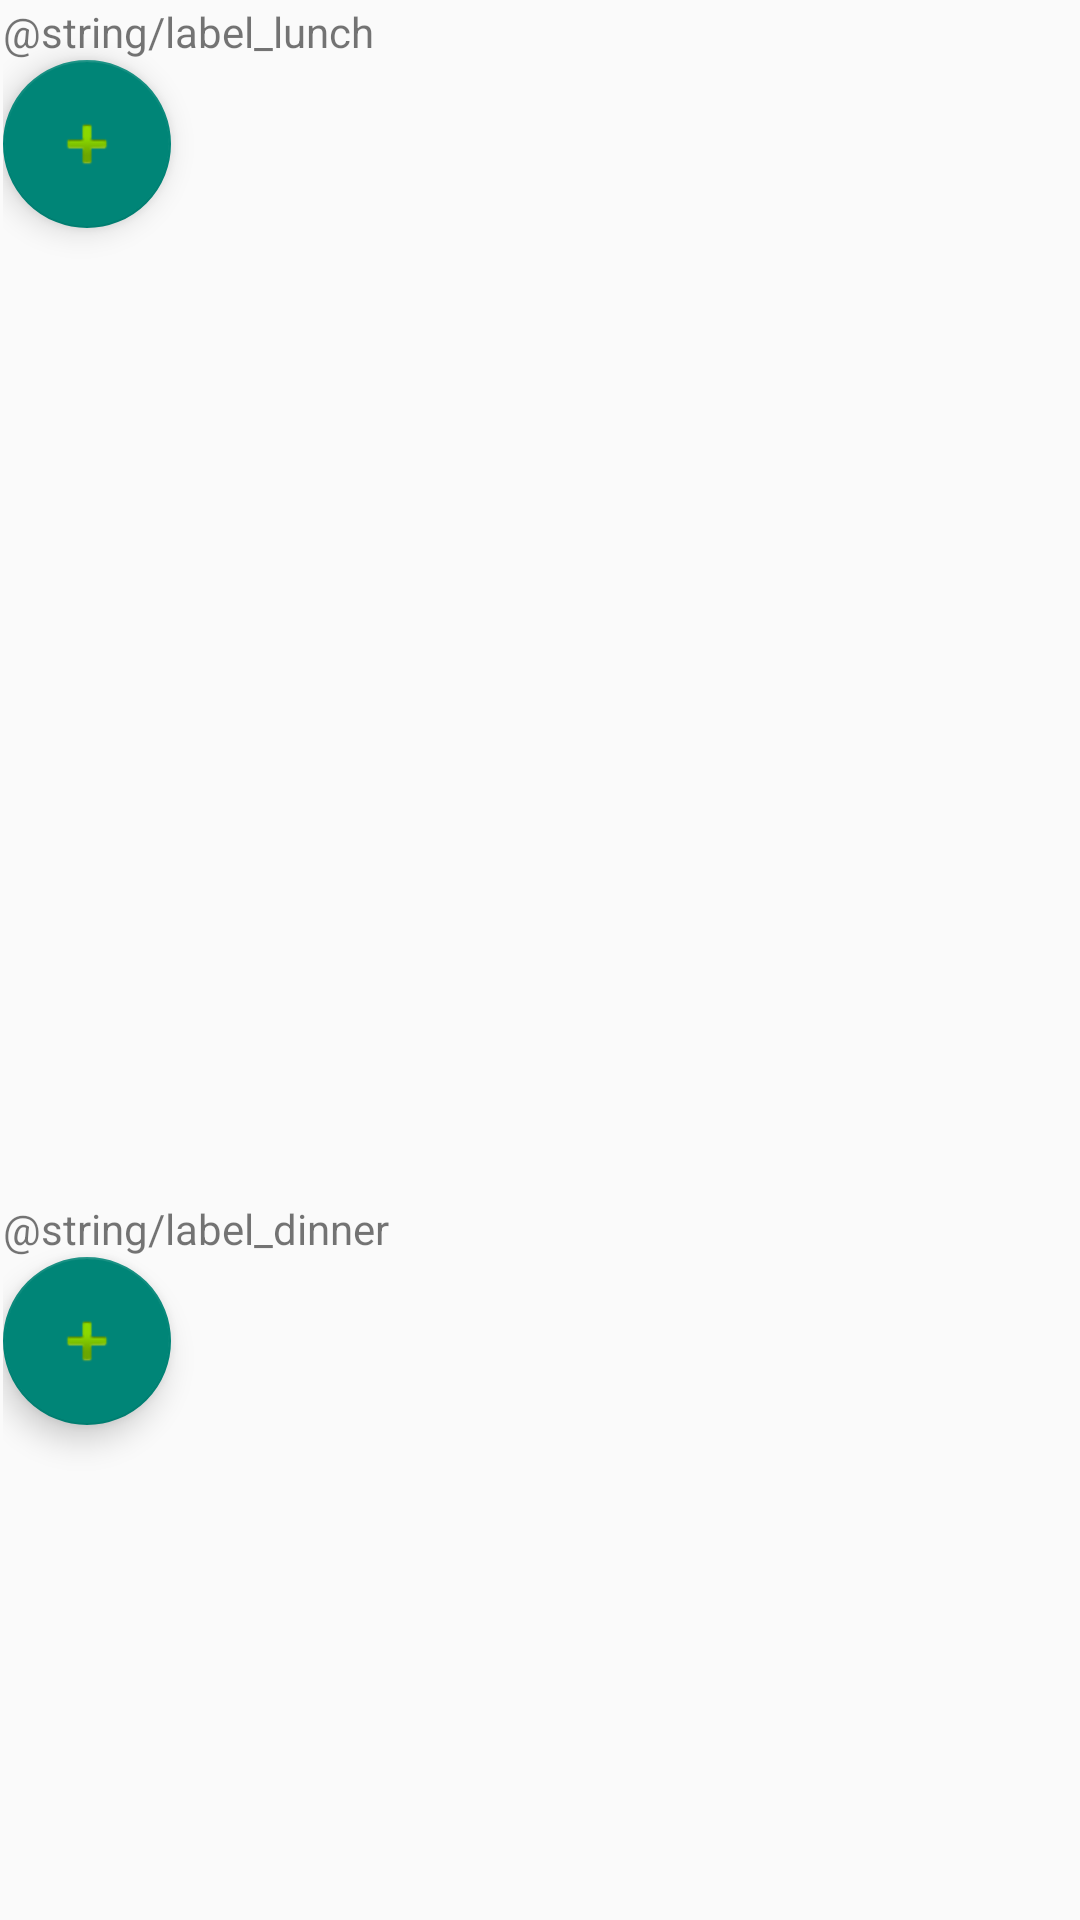

Screen size 1080 × 1920. Icon name, then its center in pixels as (x,y):
add: (87,144), (87,1341)
